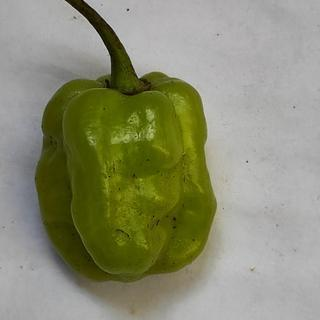Fly-bites: (169, 225, 179, 231), (190, 237, 198, 244), (170, 216, 178, 223), (131, 172, 137, 179)
striped: (114, 227, 132, 240)
